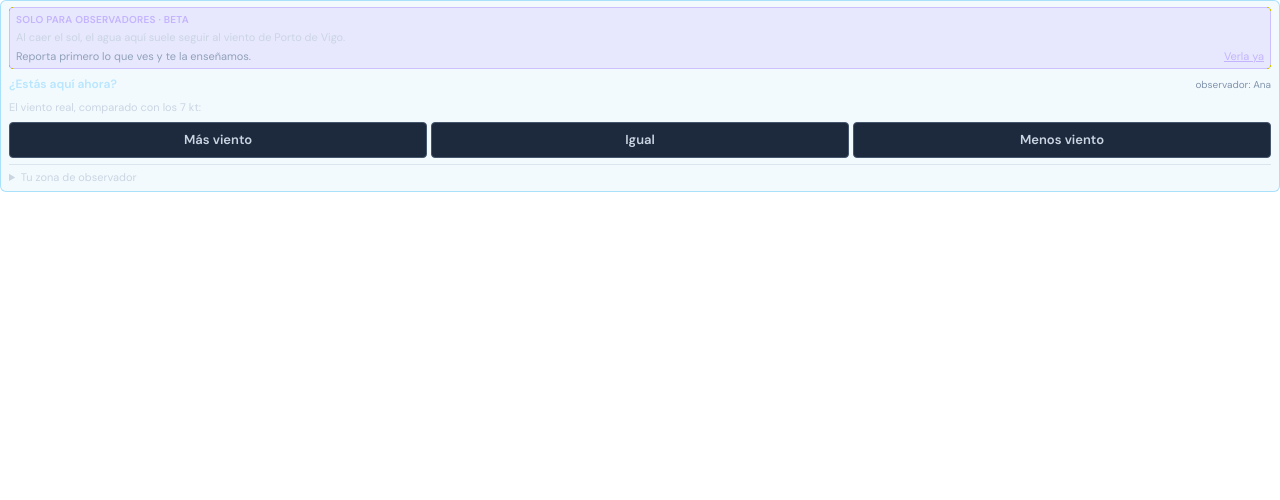
SpotReportBox: the observers-only BETA › «Verla ya» shows it before reporting, and the report says so
This screenshot has width=1280, height=500.
Click the button "Verla ya": (1244, 56) [1224,48,1264,64]
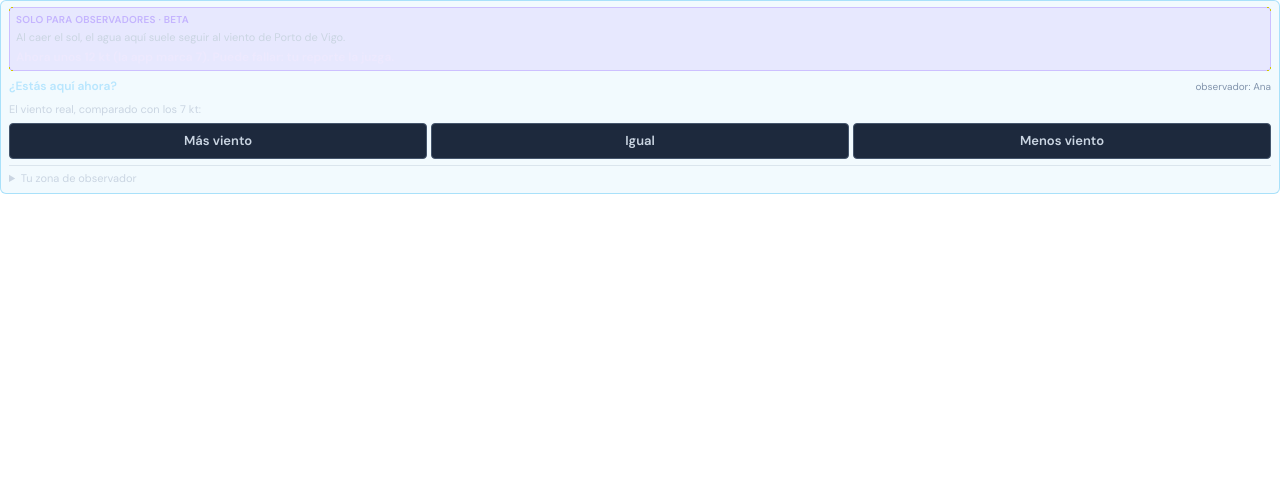
Click the button "Igual": (640, 141) [431,123,849,159]
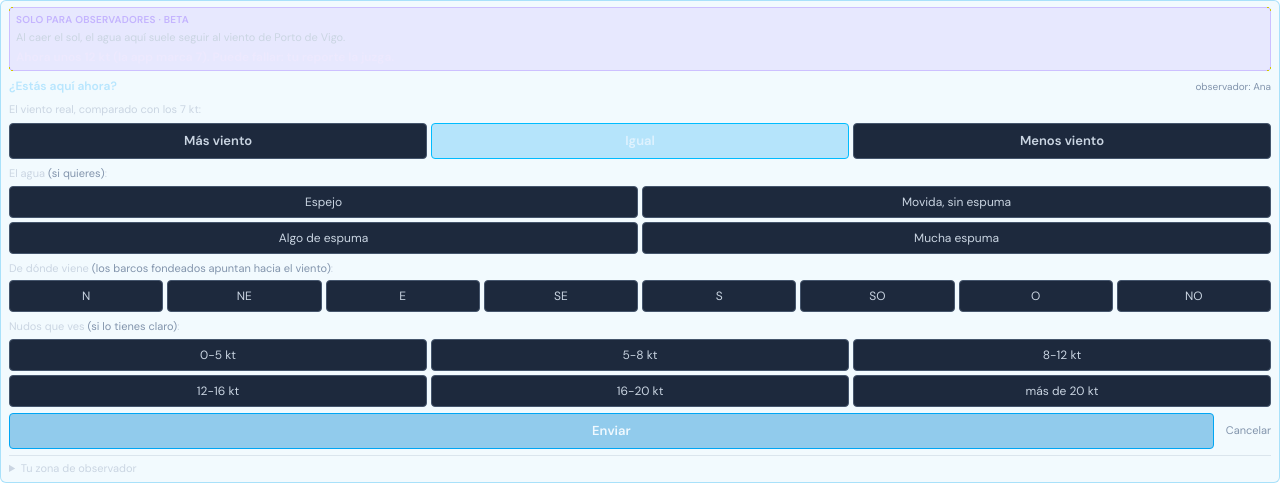
Click the button "Enviar": (611, 430) [9,412,1214,448]
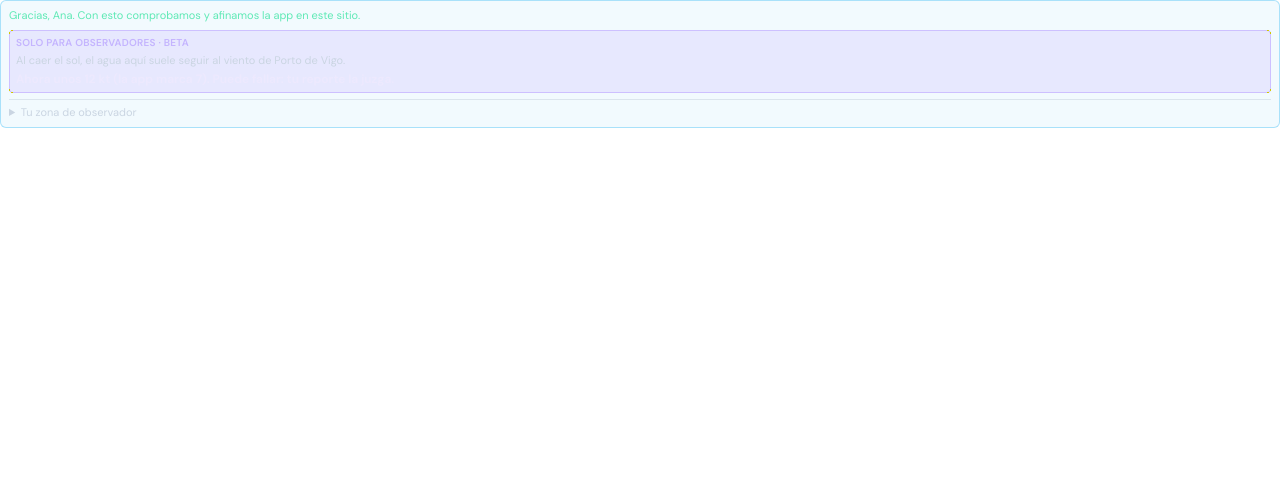
Expected: the text "Gracias, Ana" is shown, [9,8,360,22]
